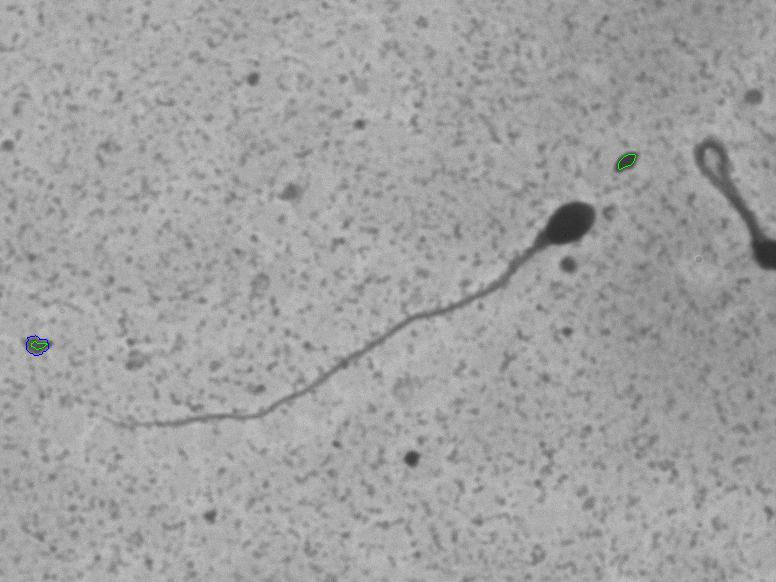Normal: (114, 146, 609, 456)
